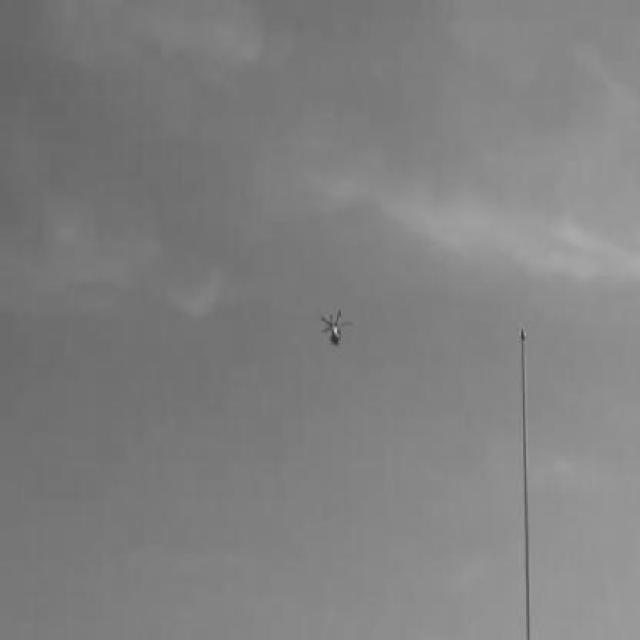helikopter: (316, 305, 352, 350)
